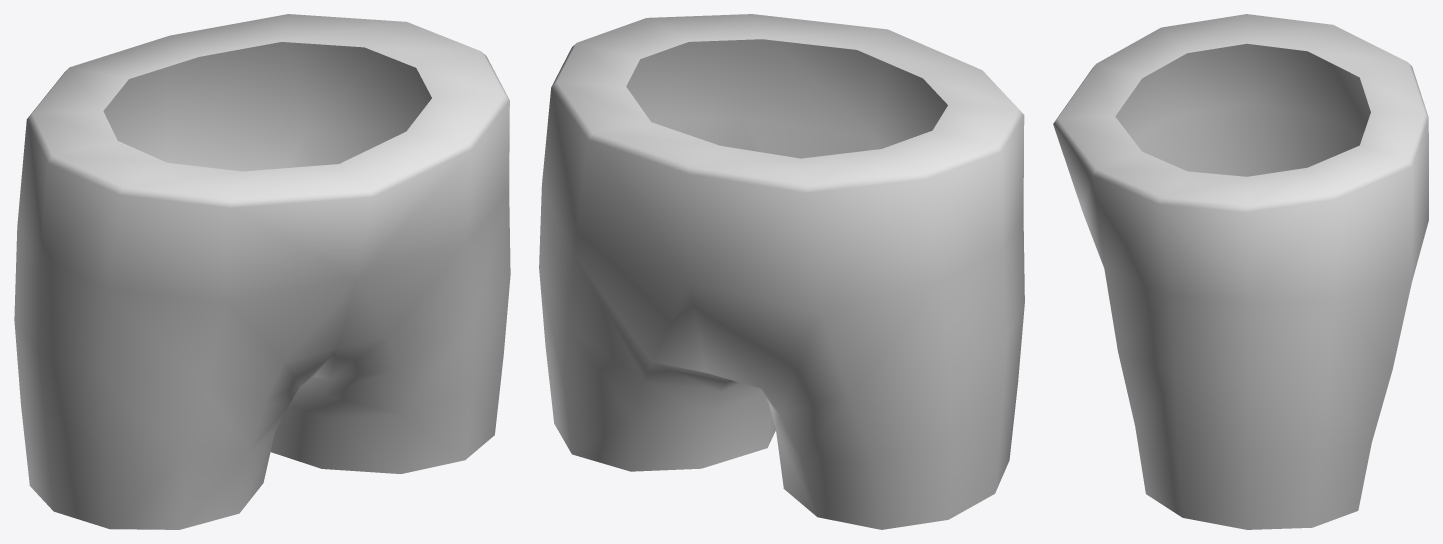
Rendered from Pants_White_005.glb.
3 views of the same model, side by side, from view 1: azimuth 30°, elevation 25°; view 2: azimuth 150°, elevation 25°; view 3: azimuth 270°, elevation 25° (orthographic). The views are drawn at different scales.
Visible parts, largest first — view 1: Pants_White_005; view 2: Pants_White_005; view 3: Pants_White_005.
Boxes of the visible parts, x1,y1,x2,y2 form: Pants_White_005: [14, 14, 510, 529]; Pants_White_005: [539, 14, 1024, 529]; Pants_White_005: [1053, 14, 1428, 529].
Bounding box in the file's own units: 0.4529 × 0.3473 × 0.3561.
1 material, 1 textured.
